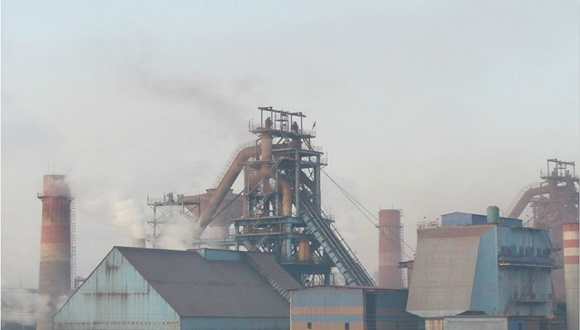dust: (100, 176, 151, 246)
